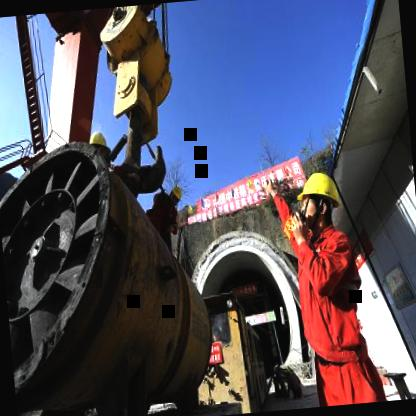helmet: (295, 166, 346, 237), (87, 128, 112, 168), (168, 182, 184, 206)
